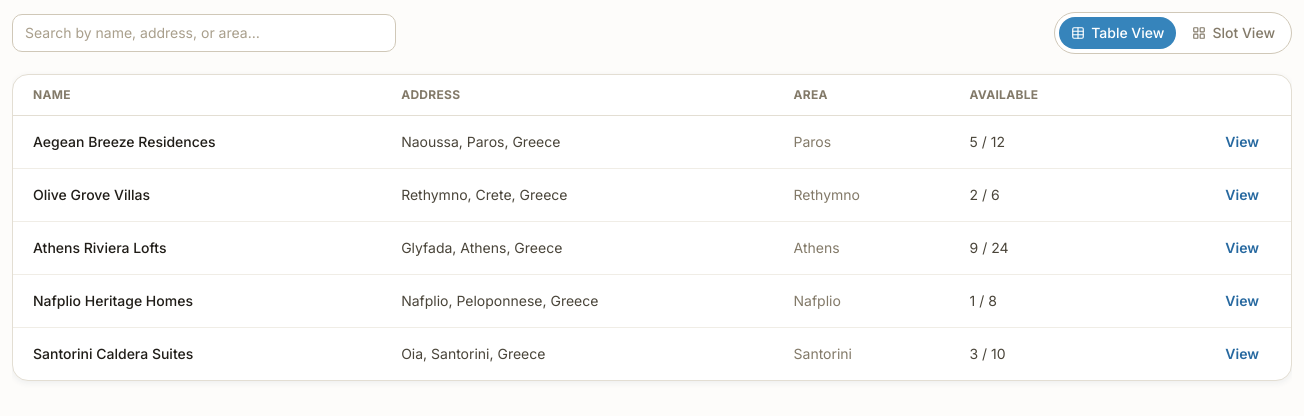
Scenario: ProjectsExplorer › alternates between the table layout and the card grid layout when the toggle is clicked
Click the switch named "Toggle between table view and slot view" at point(1173, 33), box x1=1054 y1=12 x2=1292 y2=54
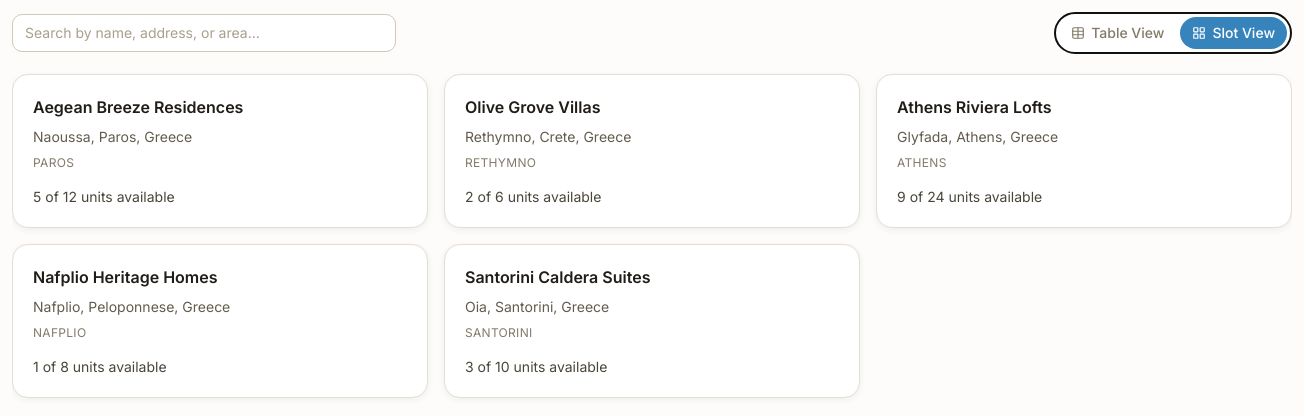
Expected: the text "Aegean Breeze Residences" is shown, x1=33 y1=97 x2=243 y2=117
Expected: the table is gone
Expected: the element with test id "projects-grid" is shown
Click the switch named "Toggle between table view and slot view" at point(1173, 33), box x1=1054 y1=12 x2=1292 y2=54
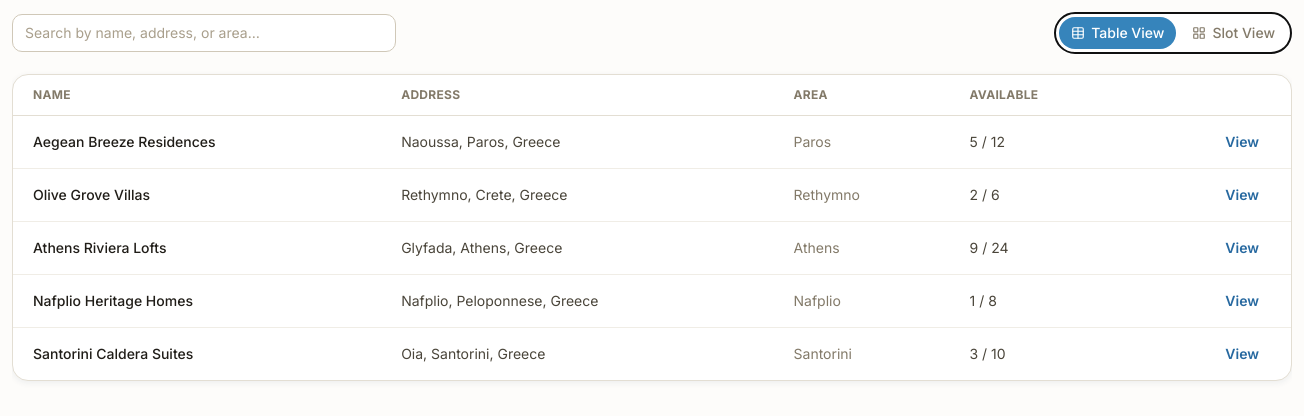
Expected: the table is shown
